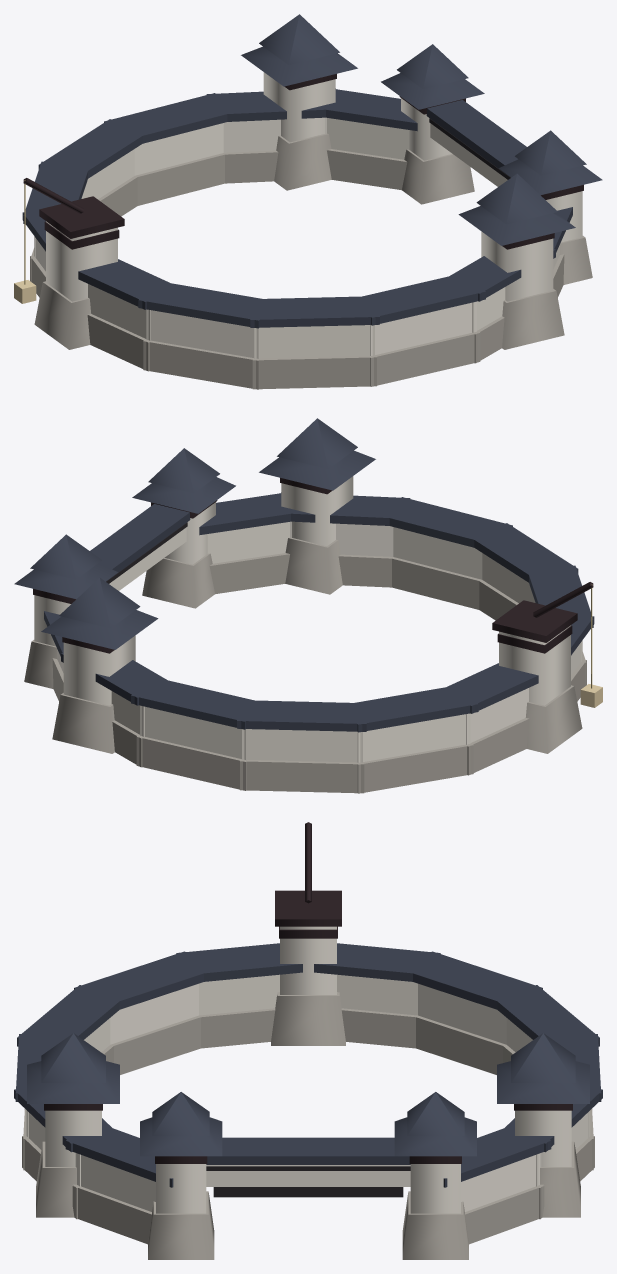
File: base_builder_walls_2.glb
3 renders of one model, top to bottom at view 1: azimuth 30°, elevation 25°; view 2: azimuth 150°, elevation 25°; view 3: azimuth 270°, elevation 25°, orthographic. The views are drawn at different scales.
Parts seen in each view (by area): view 1: wall_8, wall_8_plaster, wall_8_cap, wall_9_cap, wall_7, wall_2_cap, wall_7_plaster, wall_9, wall_7_cap, wall_9_plaster, gate_arch_cap, tower_180_body (+38 smaller); view 2: wall_3, wall_3_plaster, wall_4, wall_3_cap, wall_9_cap, wall_4_plaster, wall_2, wall_2_cap, wall_4_cap, wall_2_plaster, gate_arch_cap, wall_8_cap (+38 smaller); view 3: gate_arch_cap, wall_7_cap, wall_4_cap, gate_arch, tower_180_ishigaki, wall_3_cap, gate_tower_n_ishigaki, gate_tower_s_ishigaki, wall_6_cap, wall_8_cap, tower_180_body, wall_5_cap (+40 smaller).
Boxes of the visible parts, x1=… form: wall_8: x1=252, y1=355, x2=376, y2=389; wall_8_plaster: x1=254, y1=325, x2=374, y2=358; wall_8_cap: x1=248, y1=296, x2=379, y2=327; wall_9_cap: x1=349, y1=273, x2=485, y2=325; wall_7: x1=143, y1=340, x2=260, y2=389; wall_2_cap: x1=104, y1=93, x2=238, y2=143; wall_7_plaster: x1=146, y1=309, x2=259, y2=358; wall_9: x1=370, y1=330, x2=480, y2=386; wall_7_cap: x1=138, y1=281, x2=276, y2=328; wall_9_plaster: x1=370, y1=301, x2=476, y2=355; gate_arch_cap: x1=426, y1=100, x2=526, y2=177; tower_180_body: x1=46, y1=221, x2=117, y2=301; wall_3: x1=240, y1=759, x2=364, y2=793; wall_3_plaster: x1=242, y1=729, x2=362, y2=762; wall_4: x1=356, y1=744, x2=473, y2=793; wall_3_cap: x1=237, y1=700, x2=368, y2=731; wall_9_cap: x1=377, y1=497, x2=512, y2=547; wall_4_plaster: x1=357, y1=713, x2=470, y2=762; wall_2: x1=136, y1=734, x2=247, y2=790; wall_2_cap: x1=131, y1=677, x2=267, y2=729; wall_4_cap: x1=341, y1=685, x2=478, y2=732; wall_2_plaster: x1=140, y1=705, x2=246, y2=759; gate_arch_cap: x1=90, y1=504, x2=190, y2=581; wall_8_cap: x1=466, y1=523, x2=578, y2=582; gate_arch_cap: x1=206, y1=1137, x2=410, y2=1164; wall_7_cap: x1=74, y1=951, x2=215, y2=1009; wall_4_cap: x1=400, y1=951, x2=542, y2=1009; gate_arch: x1=206, y1=1165, x2=410, y2=1186; tower_180_ishigaki: x1=271, y1=992, x2=345, y2=1045; wall_3_cap: x1=491, y1=985, x2=599, y2=1046; gate_tower_n_ishigaki: x1=402, y1=1191, x2=468, y2=1259; gate_tower_s_ishigaki: x1=148, y1=1191, x2=214, y2=1259; wall_6_cap: x1=176, y1=943, x2=302, y2=981; wall_8_cap: x1=17, y1=985, x2=119, y2=1046; tower_180_body: x1=280, y1=926, x2=336, y2=994; wall_5_cap: x1=314, y1=943, x2=440, y2=981.
Bounding box in the file's own units: 1.07 × 0.3348 × 0.9989.
